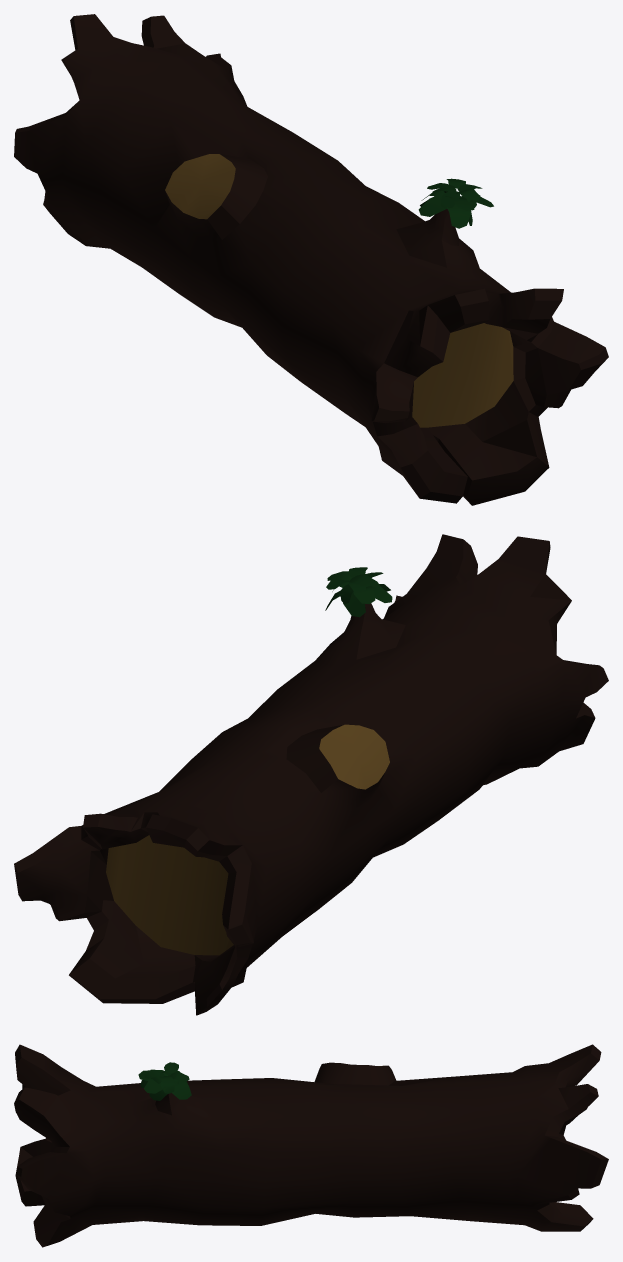
File: SM_Trunk.fbx
3 views of the same model, one above another, from view 1: azimuth 30°, elevation 25°; view 2: azimuth 150°, elevation 25°; view 3: azimuth 270°, elevation 25° (orthographic). The views are drawn at different scales.
Parts seen in each view (by area): view 1: SM_Trunk; view 2: SM_Trunk; view 3: SM_Trunk.
Part boxes in pixels (x1,y1,x2,y2): SM_Trunk: (14,14,608,505); SM_Trunk: (14,534,608,1015); SM_Trunk: (14,1044,608,1247).
Size of the model in its own units: 84.56 by 257 by 91.98.
